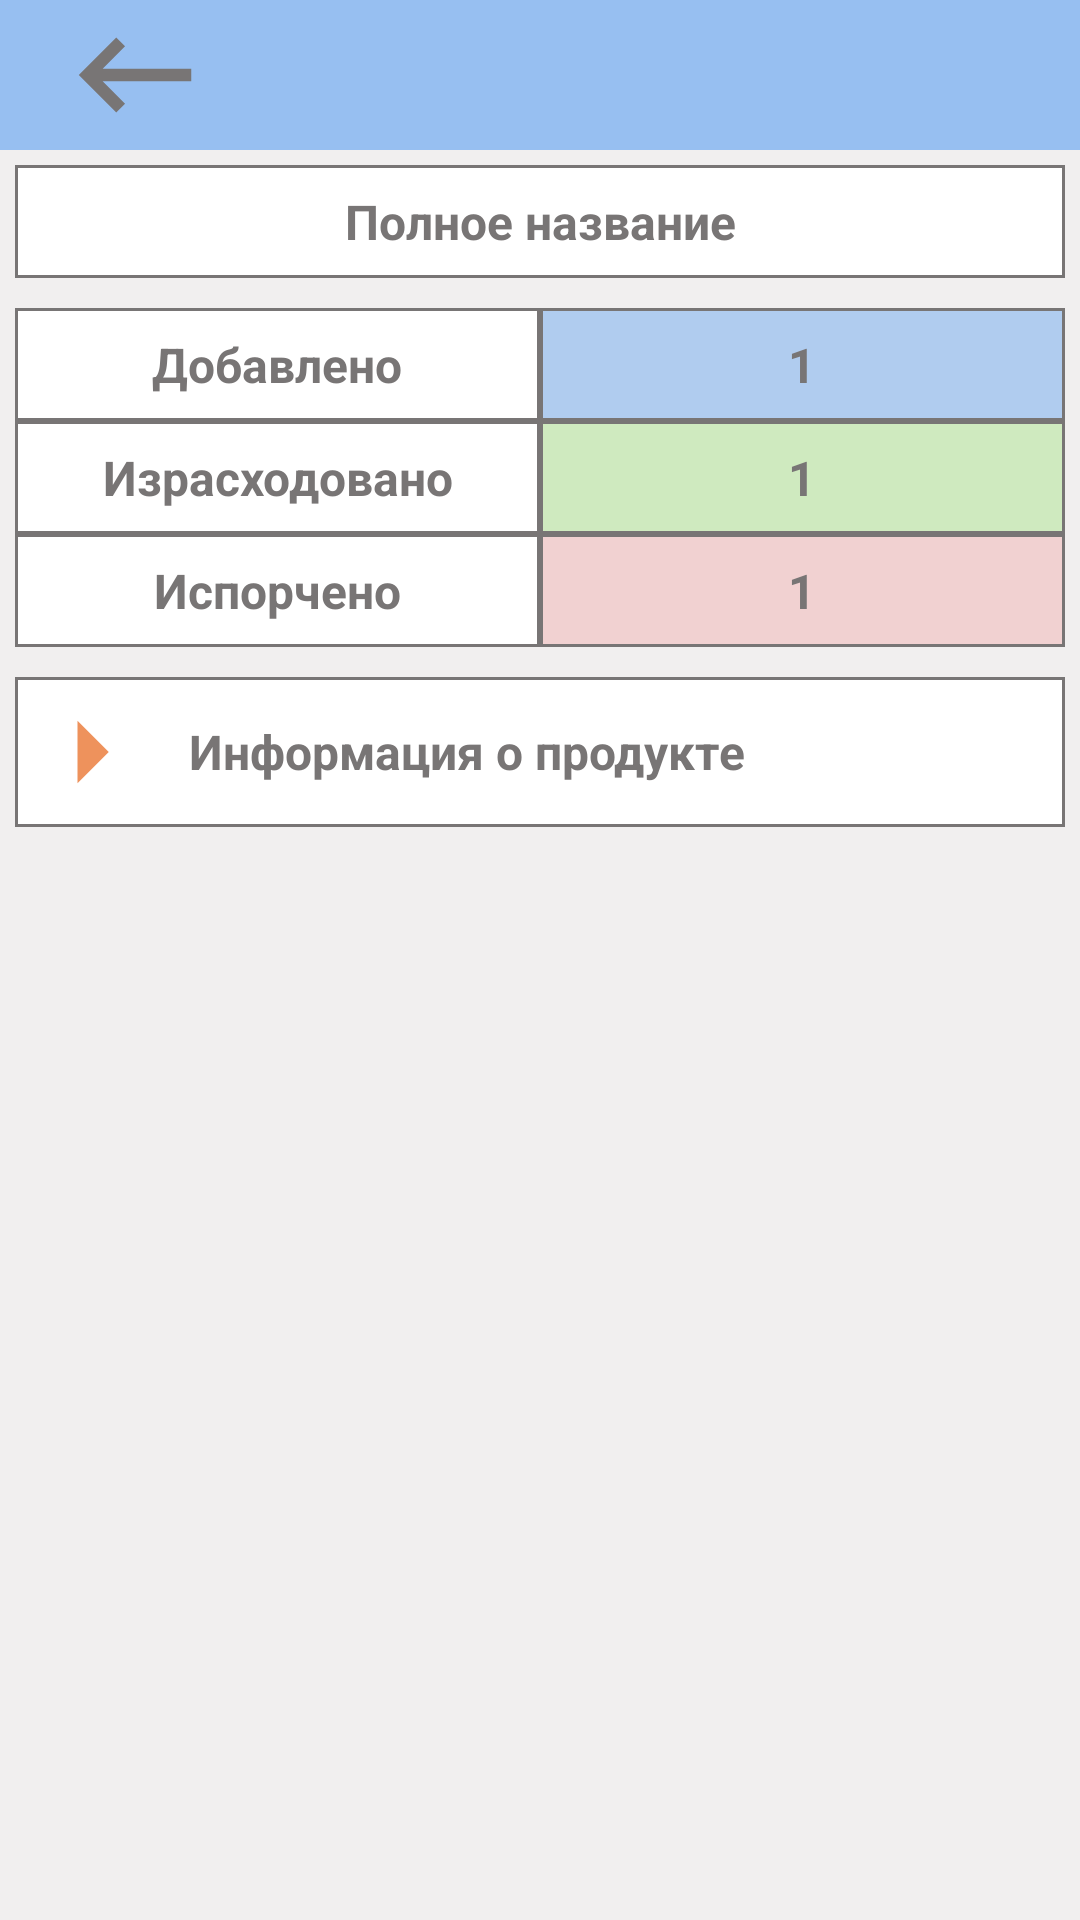

Icon click points for this 1080 x 1920 phone screenshot, format (x,y):
Назад: (135,75)
